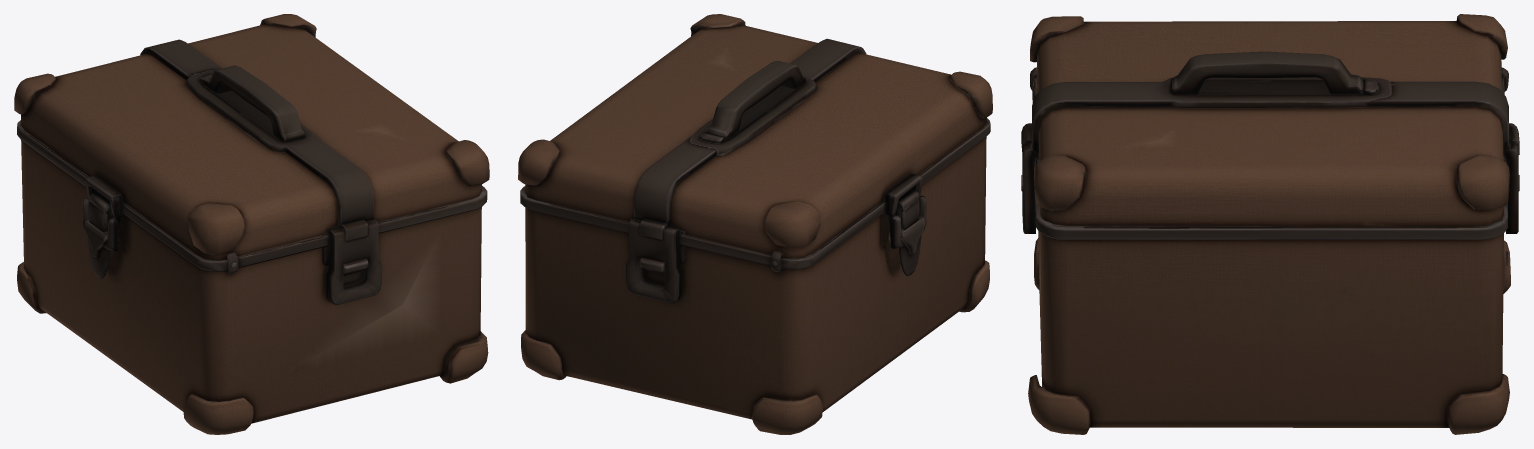
File: travel+box+3d+model.glb
3 views of the same model, side by side, from view 1: azimuth 30°, elevation 25°; view 2: azimuth 150°, elevation 25°; view 3: azimuth 270°, elevation 25° (orthographic). The views are drawn at different scales.
Visible parts, largest first — view 1: tripo_node_177801b3-51dc-40e7-8122-b9016765fa1a; view 2: tripo_node_177801b3-51dc-40e7-8122-b9016765fa1a; view 3: tripo_node_177801b3-51dc-40e7-8122-b9016765fa1a.
Boxes of the visible parts, x1,y1,x2,y2 form: tripo_node_177801b3-51dc-40e7-8122-b9016765fa1a: [14, 14, 489, 434]; tripo_node_177801b3-51dc-40e7-8122-b9016765fa1a: [518, 14, 992, 434]; tripo_node_177801b3-51dc-40e7-8122-b9016765fa1a: [1021, 14, 1519, 434].
Bounding box in the file's own units: 0.834 × 0.6699 × 0.998.
1 material, 1 textured.
